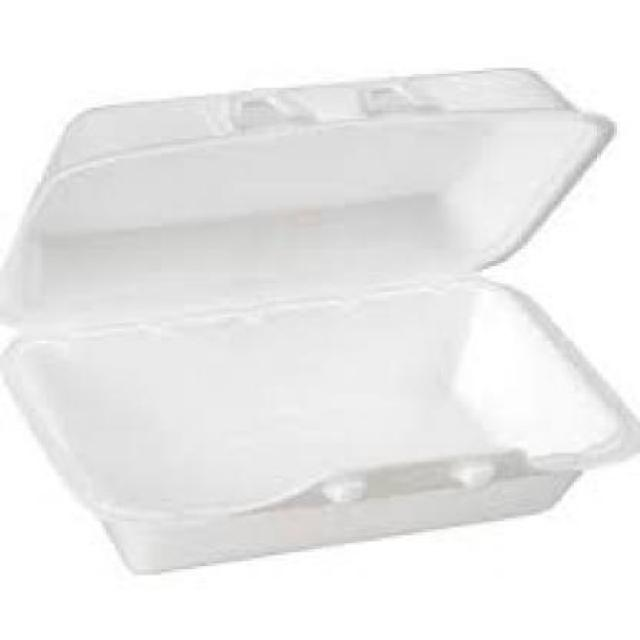nhua: (0, 69, 638, 572)
